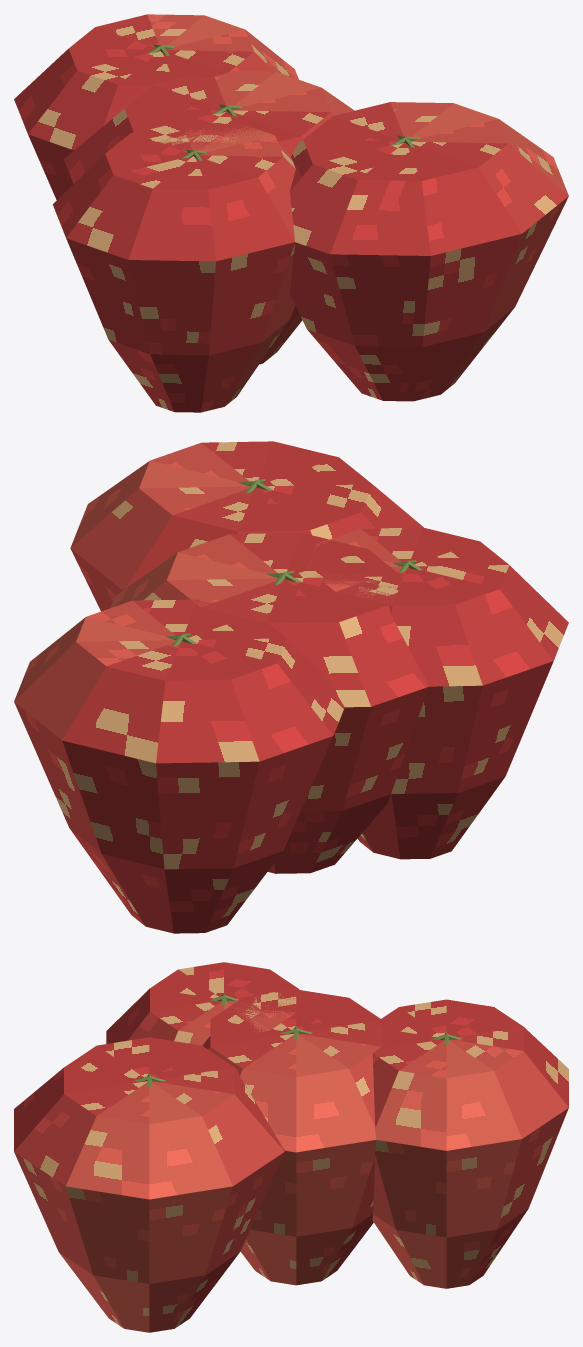
Rendered from strawberries.glb.
3 views of the same model, one above another, from view 1: azimuth 30°, elevation 25°; view 2: azimuth 150°, elevation 25°; view 3: azimuth 270°, elevation 25° (orthographic). The views are drawn at different scales.
Visible parts, largest first — view 1: block_tapered strawberry with seeds (×4); view 2: block_tapered strawberry with seeds (×4); view 3: block_tapered strawberry with seeds (×4).
Boxes of the visible parts, left/top/right/bottom form: block_tapered strawberry with seeds (×4): left=14, top=14, right=568, bottom=412; block_tapered strawberry with seeds (×4): left=14, top=441, right=568, bottom=933; block_tapered strawberry with seeds (×4): left=14, top=962, right=568, bottom=1332.
Bounding box in the file's own units: 0.097 × 0.0508 × 0.1084.
Materials: 2 (2 with a texture image).
